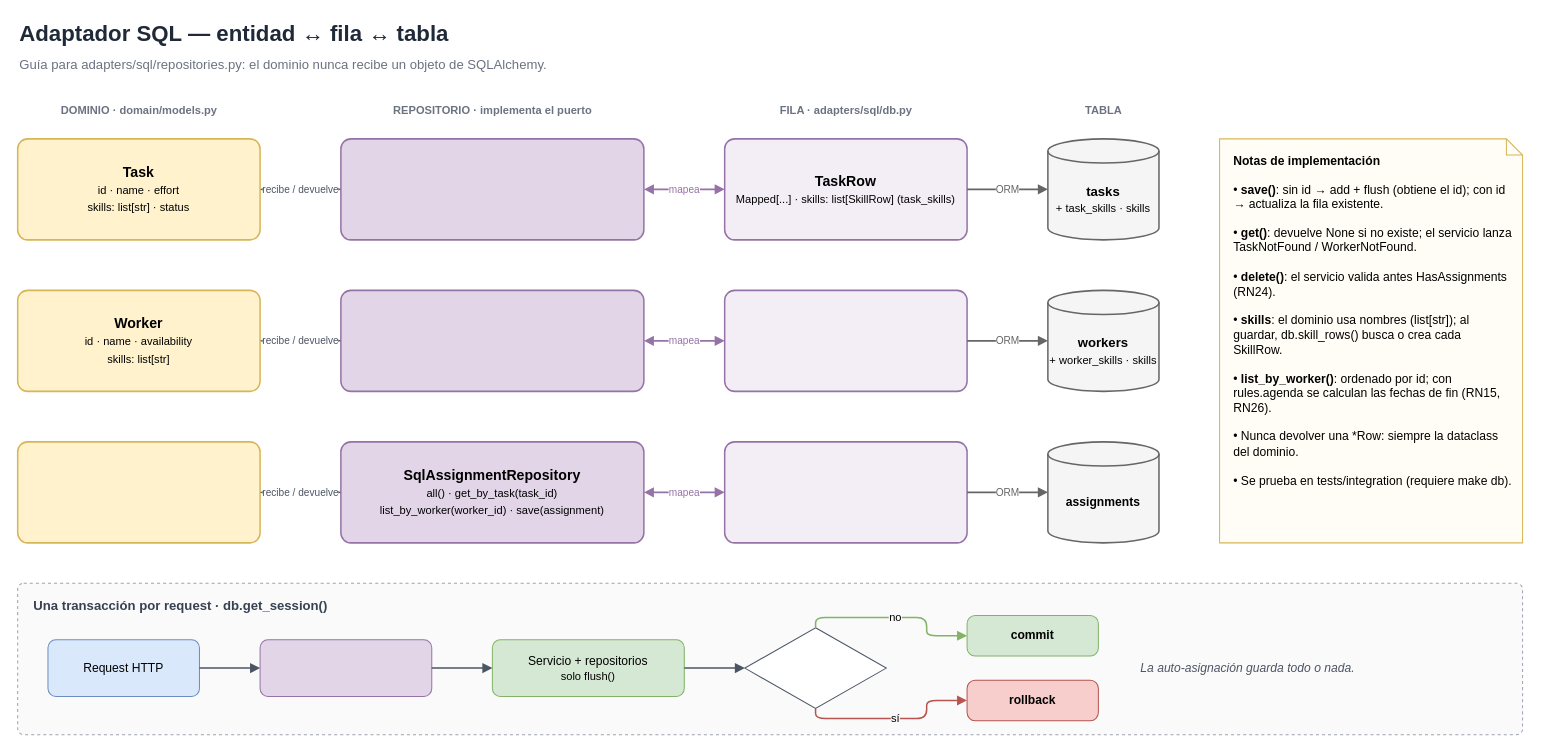
The diagram is 1541 pixels wide and 752 high, and some of its shapes have lost their labels. Here are the shapes that lost their labels. From the top down, the centre of each, then its label:
At pixel 492 189: "SqlTaskRepository all() · get(id) · save(task) · delete(id)".
At pixel 492 340: "SqlWorkerRepository all() · get(id) · save(worker) · delete(id)".
At pixel 845 340: "WorkerRow Mapped[...] · skills: list[SkillRow] (worker_skills)".
At pixel 138 492: "Assignment task_id · worker_id start_date (inicio comprometido)".
At pixel 845 492: "AssignmentRow FK task_id (UNIQUE) · FK worker_id · start_date".
At pixel 345 667: "get_session() session.begin()".
At pixel 815 668: "¿excepción?".
